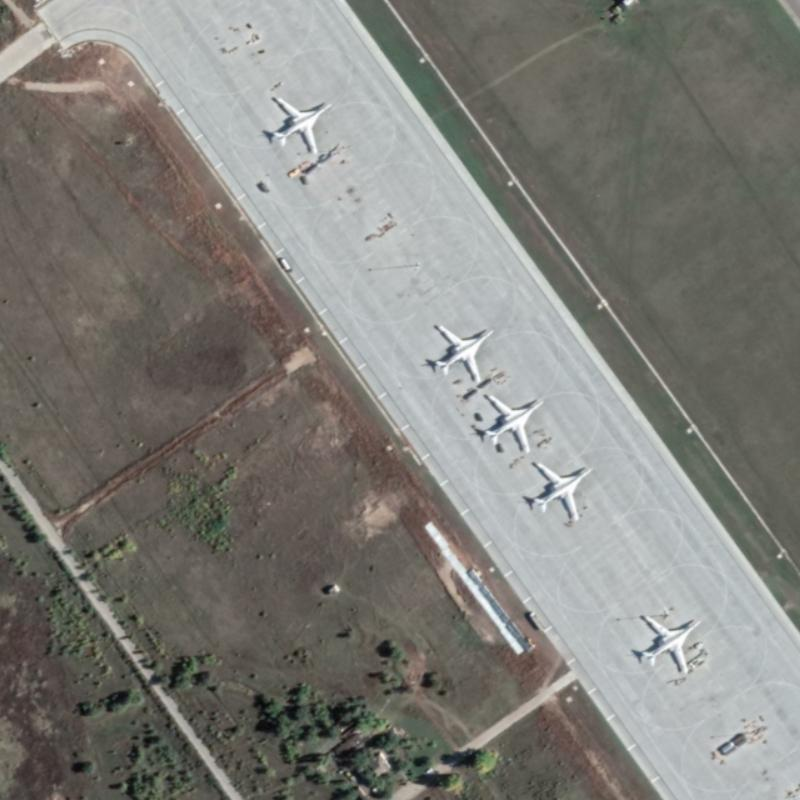A6: (428, 317, 496, 386), (636, 609, 703, 678), (267, 89, 333, 157), (479, 389, 543, 455), (530, 459, 594, 523)
